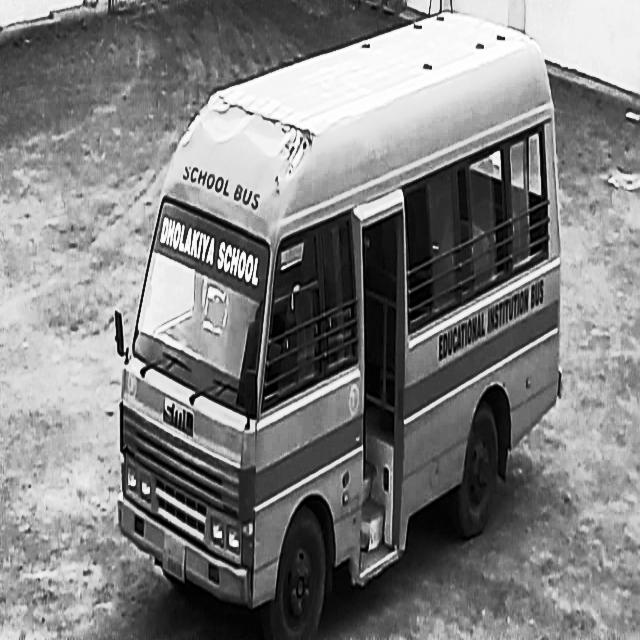Bus: (114, 4, 576, 636)
